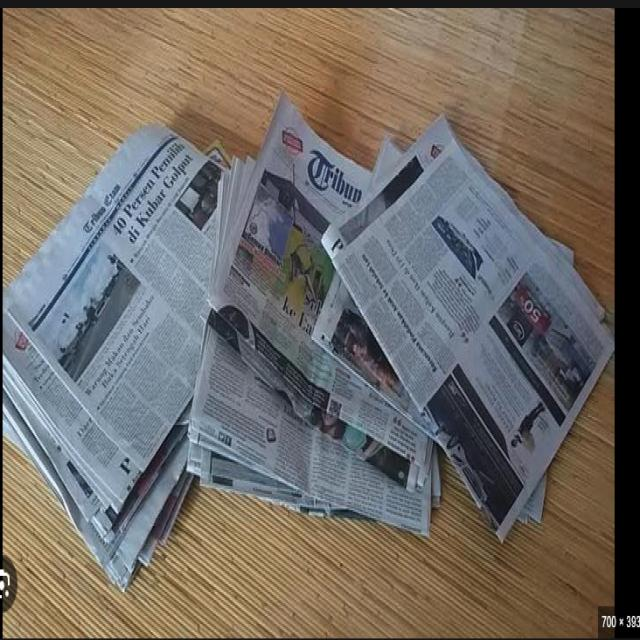Koran: (3, 93, 613, 592)
